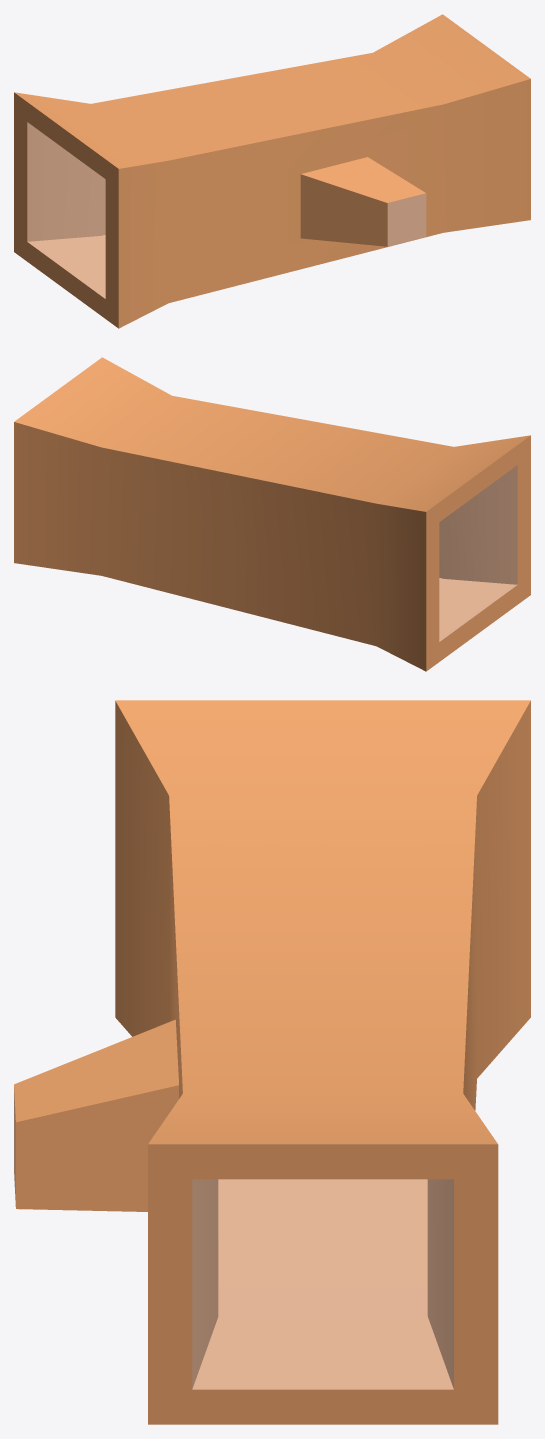
The model's file is log_large.fbx.
3 renders of one model, top to bottom at view 1: azimuth 30°, elevation 25°; view 2: azimuth 150°, elevation 25°; view 3: azimuth 270°, elevation 25°, orthographic. The views are drawn at different scales.
Parts seen in each view (by area): view 1: log_large; view 2: log_large; view 3: log_large.
Boxes of the visible parts, x1,y1,x2,y2 form: log_large: [14, 14, 530, 328]; log_large: [14, 357, 530, 671]; log_large: [14, 700, 530, 1424].
Size of the model in its own units: 7.66 by 2.78 by 4.11.
